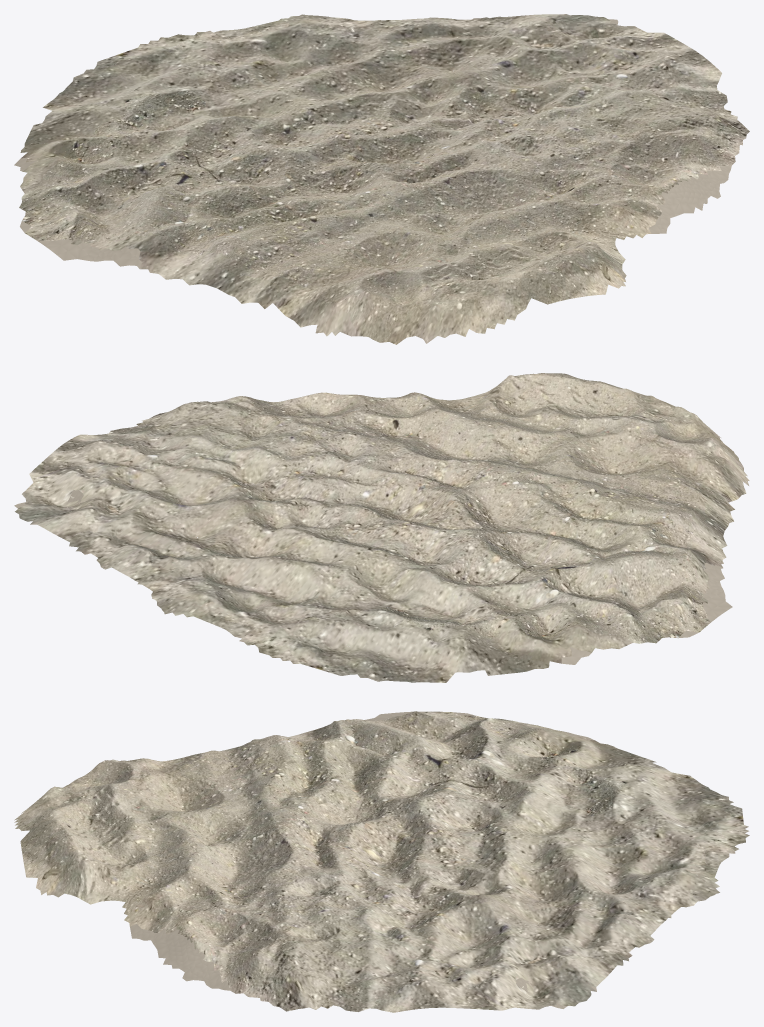
The model's file is beachSandOpt.glb.
3 views of the same model, one above another, from view 1: azimuth 30°, elevation 25°; view 2: azimuth 150°, elevation 25°; view 3: azimuth 270°, elevation 25° (orthographic). The views are drawn at different scales.
Parts seen in each view (by area): view 1: Object_2, Object_3, Object_4; view 2: Object_2, Object_3, Object_4; view 3: Object_2, Object_3, Object_4.
Part boxes in pixels (x1,y1,x2,y2): Object_2: [14, 14, 749, 344]; Object_3: [27, 16, 721, 342]; Object_4: [19, 91, 205, 243]; Object_2: [14, 373, 737, 675]; Object_3: [41, 404, 749, 682]; Object_4: [380, 552, 710, 643]; Object_2: [14, 711, 749, 1011]; Object_3: [69, 711, 735, 1012]; Object_4: [341, 711, 627, 816].
Size of the model in its own units: 16.93 by 1.04 by 16.48.
Materials: 2 (2 with a texture image).
